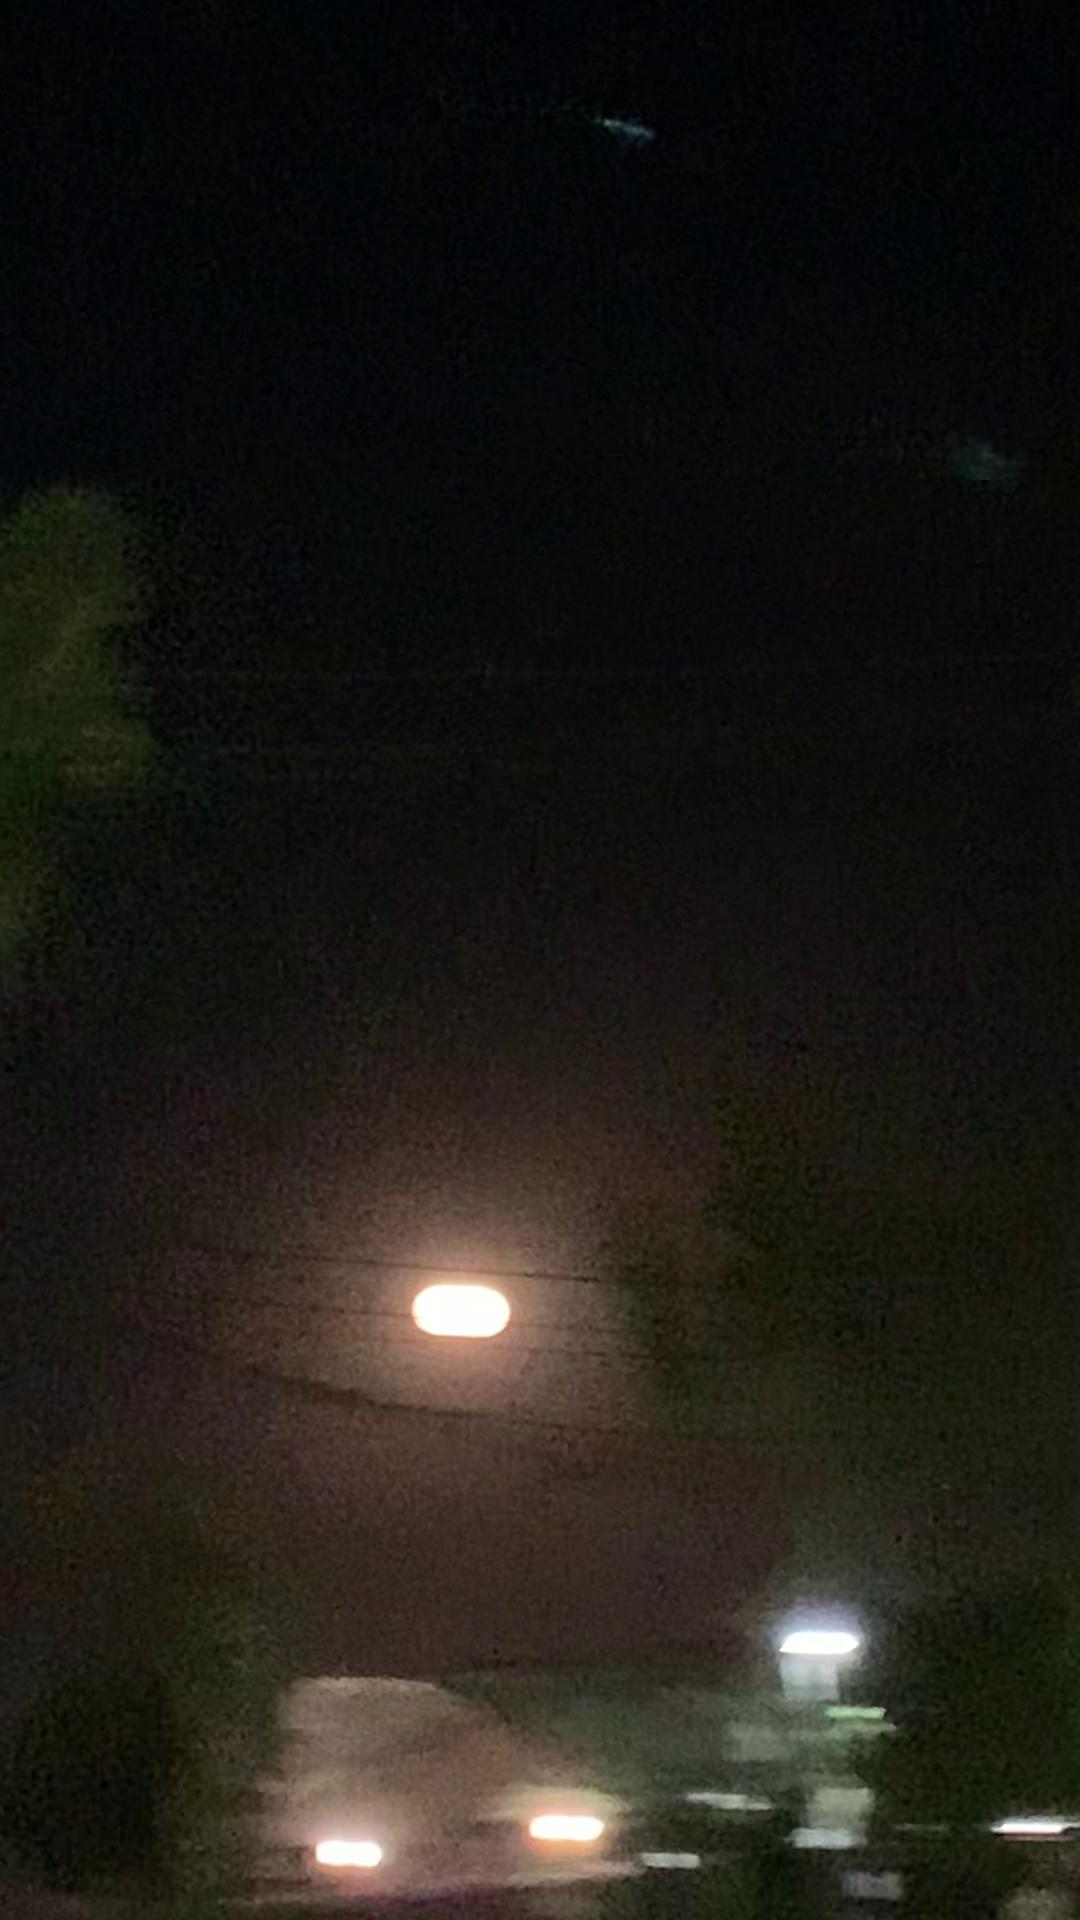moon: (406, 1282, 504, 1364)
